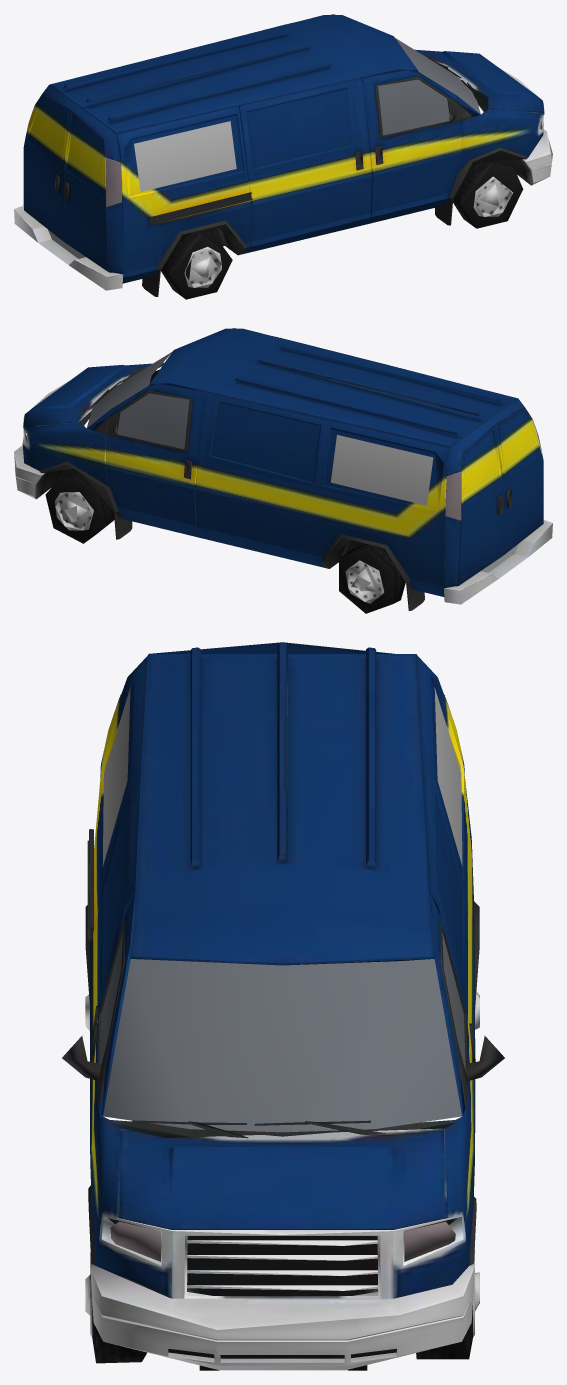
File: civ-postvan.lod1.glb
3 views of the same model, one above another, from view 1: azimuth 30°, elevation 25°; view 2: azimuth 150°, elevation 25°; view 3: azimuth 270°, elevation 25° (orthographic). The views are drawn at different scales.
Visible parts, largest first — view 1: postvan_postvan_0, postvan_postvan_glass_0; view 2: postvan_postvan_0, postvan_postvan_glass_0; view 3: postvan_postvan_0, postvan_postvan_glass_0.
Boxes of the visible parts, left/top/right/bottom form: postvan_postvan_0: left=14, top=14, right=552, bottom=299; postvan_postvan_glass_0: left=24, top=38, right=542, bottom=206; postvan_postvan_0: left=14, top=328, right=552, bottom=613; postvan_postvan_glass_0: left=25, top=351, right=543, bottom=520; postvan_postvan_0: left=62, top=642, right=504, bottom=1370; postvan_postvan_glass_0: left=99, top=687, right=465, bottom=1261.
Size of the model in its own units: 5.32 by 1.98 by 2.14.
Materials: 2 (1 with a texture image).
